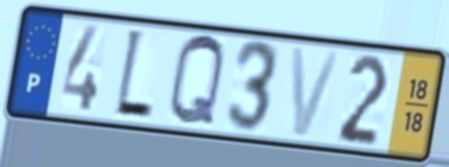2: (335, 51, 393, 150)
3: (224, 36, 281, 137)
4: (59, 22, 101, 117)
L: (111, 25, 156, 125)
Q: (166, 31, 228, 130)
V: (288, 44, 345, 141)
